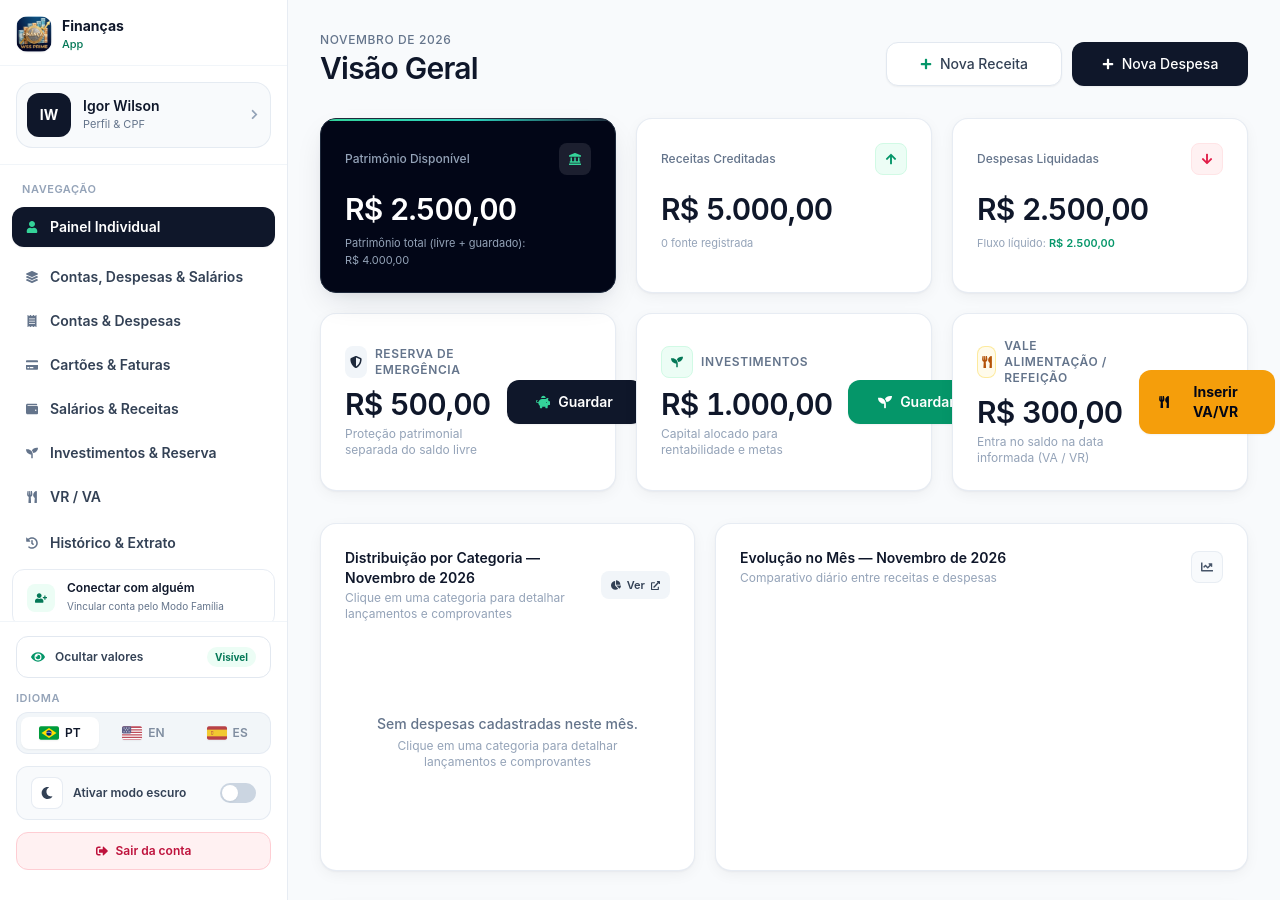
Scenario: Dashboard Website vs Installed App Sidebar behavior › hides Family Panel button in installed app sidebar when user is not in a family and triggers logout confirm
Expected: the element with test id "app-sidebar" is shown, [0,0,288,899]
Expected: the button with test id "sidebar-nav-individual" is shown, [12,207,275,247]
Click the button with test id "sidebar-logout-btn".
click(144, 851)  # box [16,832,271,870]
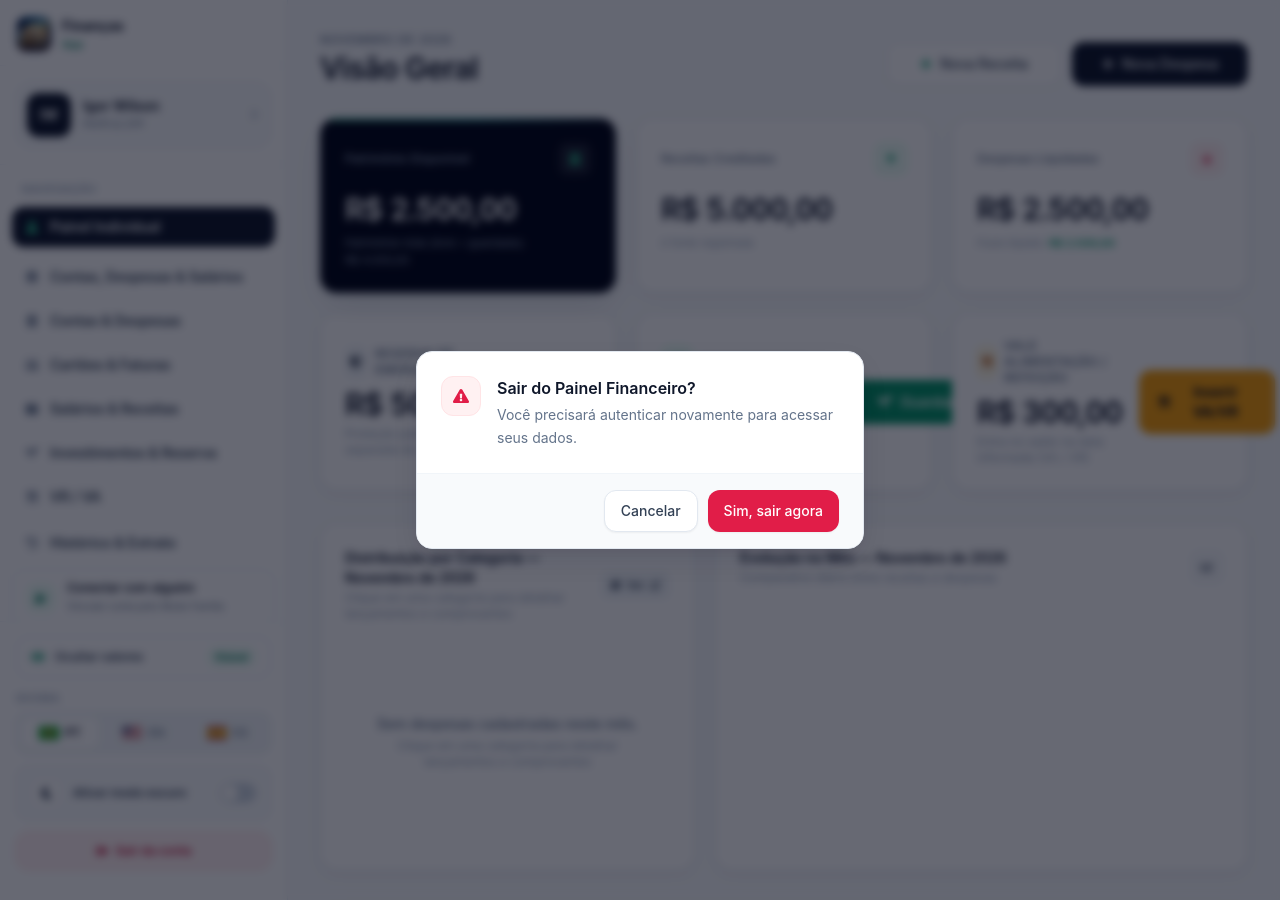
Now the heading "Sair do Painel Financeiro?" is shown, box [497,378,696,398]
